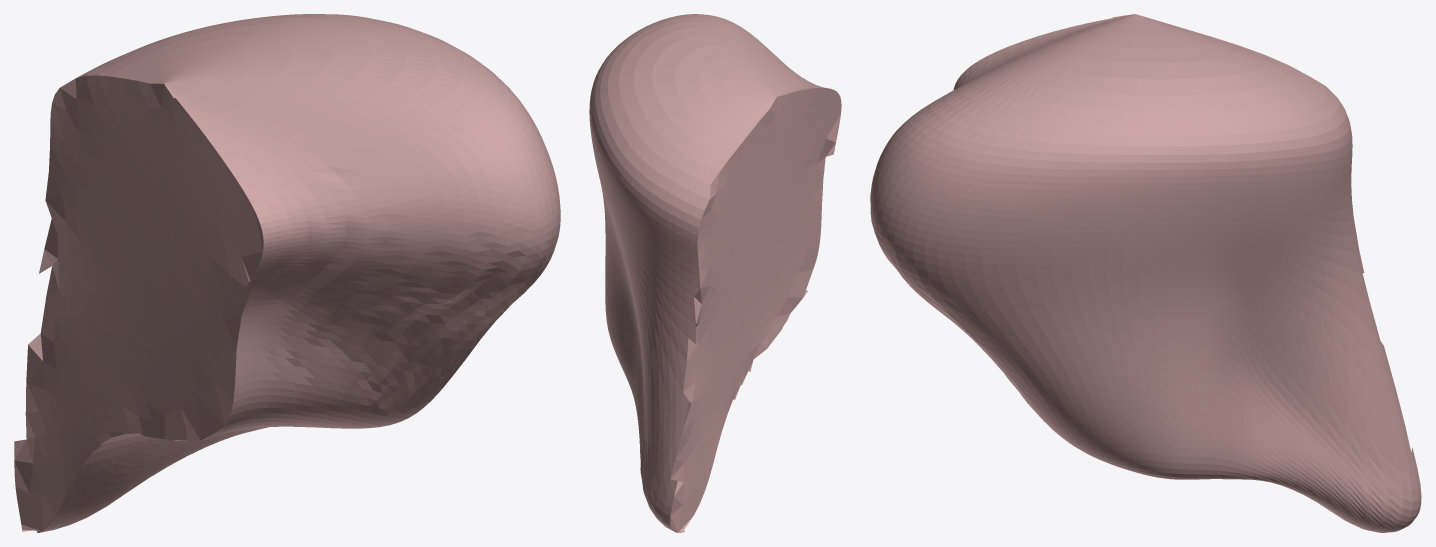
Rendered from Midbrain1.obj.
The picture shows the model from 3 angles, left to right: view 1: azimuth 30°, elevation 25°; view 2: azimuth 150°, elevation 25°; view 3: azimuth 270°, elevation 25°; orthographic projection. The views are drawn at different scales.
Visible parts, largest first — view 1: obj0; view 2: obj0; view 3: obj0.
Part boxes in pixels (left/top/right/bottom): obj0: left=14, top=14, right=560, bottom=532; obj0: left=589, top=14, right=841, bottom=532; obj0: left=870, top=14, right=1421, bottom=532.
Size of the model in its own units: 6.41 by 11.84 by 11.16.
1 material, 1 textured.
